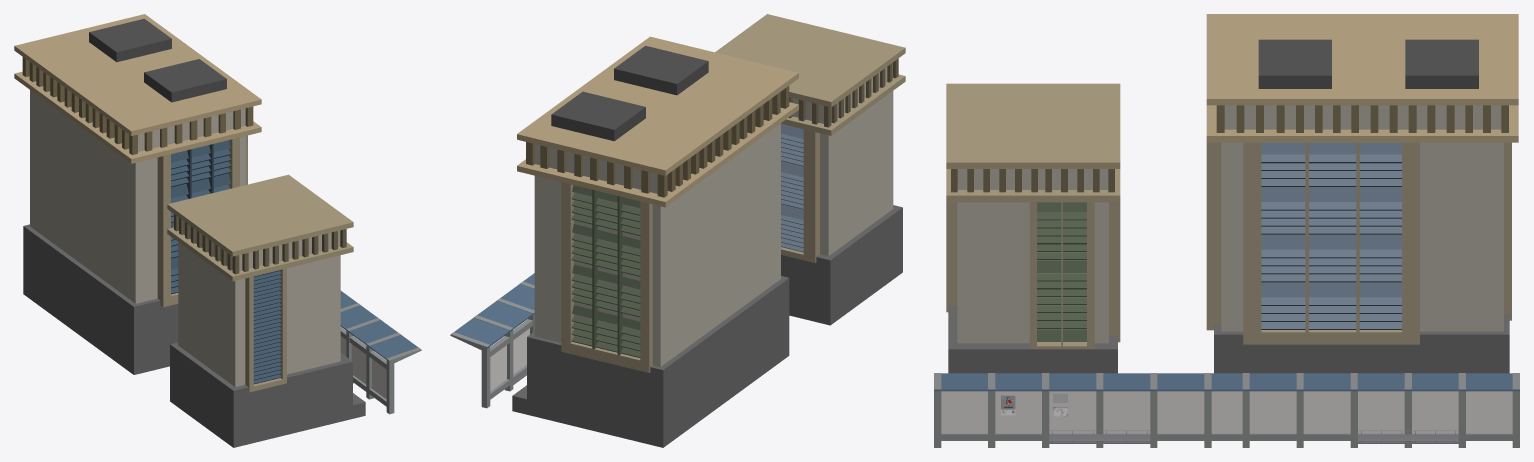
File: busNbuilding.fbx
3 renders of one model, left to right at view 1: azimuth 30°, elevation 25°; view 2: azimuth 150°, elevation 25°; view 3: azimuth 270°, elevation 25°, orthographic. The views are drawn at different scales.
Visible parts, largest first — view 1: Cube.038, Cube.037, Cube.193, Cube.036, Cube.039, Cube.055, Cube.194, Cube.331, Cube.332, Cube.022, Cube.333, Cube.173 (+7 smaller); view 2: Cube.038, Cube.039, Cube.193, Cube.037, Cube.055, Cube.036, Cube.194, Cube.331, Cube.332, Cube.296, Cube.049, Cube.272 (+12 smaller); view 3: Cube.038, Cube.193, Cube.055, Cube.037, Cube.039, Cube.036, Cube.049, Cube.022, Cube.194, Cube.241, Cube.331, Cube.332 (+45 smaller).
Part boxes in pixels (left/top/right/bottom): Cube.038: left=30, top=90, right=245, bottom=303; Cube.037: left=178, top=217, right=340, bottom=386; Cube.193: left=14, top=14, right=261, bottom=135; Cube.036: left=170, top=342, right=365, bottom=447; Cube.039: left=23, top=224, right=178, bottom=374; Cube.055: left=167, top=174, right=353, bottom=256; Cube.194: left=14, top=71, right=261, bottom=163; Cube.331: left=89, top=18, right=171, bottom=62; Cube.332: left=144, top=59, right=226, bottom=102; Cube.022: left=340, top=291, right=421, bottom=361; Cube.333: left=157, top=154, right=170, bottom=307; Cube.173: left=245, top=268, right=286, bottom=392; Cube.038: left=534, top=123, right=780, bottom=366; Cube.039: left=512, top=276, right=789, bottom=447; Cube.193: left=517, top=36, right=798, bottom=175; Cube.037: left=793, top=63, right=893, bottom=256; Cube.055: left=715, top=14, right=905, bottom=107; Cube.036: left=781, top=205, right=902, bottom=325; Cube.194: left=517, top=102, right=798, bottom=207; Cube.331: left=551, top=91, right=645, bottom=141; Cube.332: left=614, top=45, right=708, bottom=95; Cube.296: left=781, top=129, right=819, bottom=262; Cube.049: left=454, top=273, right=534, bottom=348; Cube.272: left=640, top=201, right=652, bottom=372; Cube.038: left=1221, top=105, right=1503, bottom=331; Cube.193: left=1206, top=14, right=1518, bottom=105; Cube.055: left=946, top=83, right=1120, bottom=168; Cube.037: left=957, top=169, right=1108, bottom=343; Cube.039: left=1214, top=314, right=1509, bottom=373; Cube.036: left=948, top=305, right=1117, bottom=373; Cube.049: left=1211, top=373, right=1519, bottom=391; Cube.022: left=934, top=373, right=1211, bottom=391; Cube.194: left=1206, top=105, right=1518, bottom=142; Cube.241: left=1243, top=142, right=1261, bottom=344; Cube.331: left=1405, top=39, right=1478, bottom=88; Cube.332: left=1258, top=39, right=1331, bottom=88.
Size of the model in its own units: 994 by 1298 by 2006.
